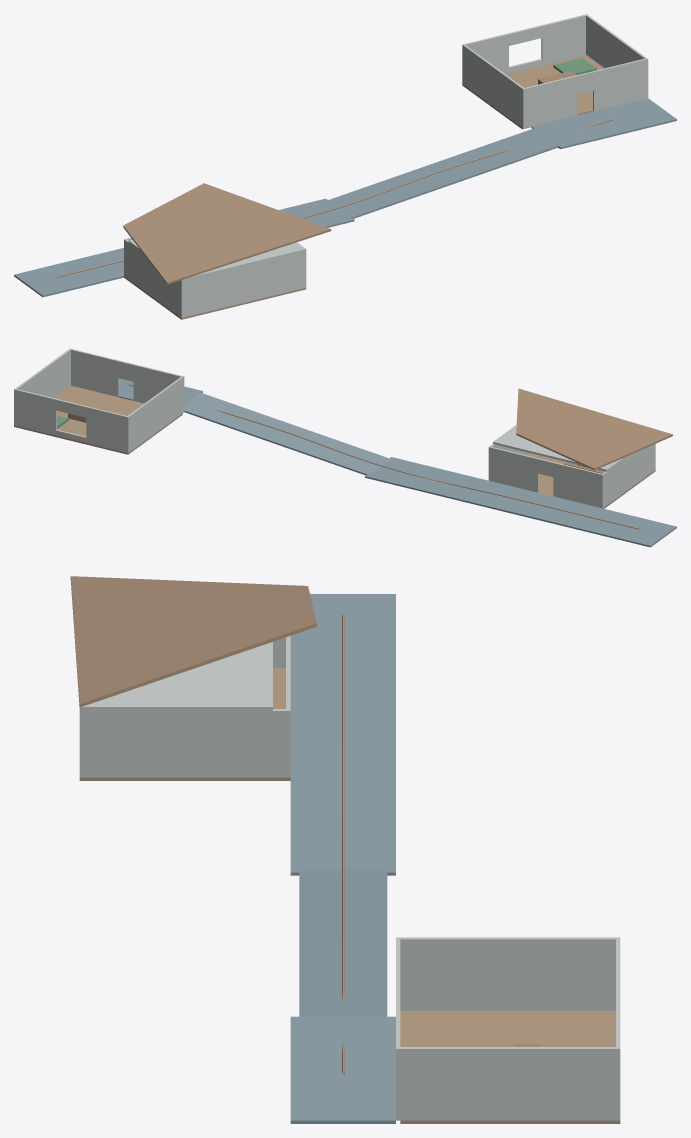
The model's file is M34_NATIVE_DIRECT_EDIT.glb.
3 views of the same model, one above another, from view 1: azimuth 30°, elevation 25°; view 2: azimuth 150°, elevation 25°; view 3: azimuth 270°, elevation 25° (orthographic). The views are drawn at different scales.
Parts seen in each view (by area): view 1: M34_HAND_EDITABLE_SKYLINE_CANOPY, M34_PUBLIC_REAL_RISE, M34_MAKER_BACK, M34_PUBLIC_LOWER_STREET, M34_PUBLIC_UPPER_LANDING, M34_RESEARCH_SIDE_W, M34_RESEARCH_FRONT_W, M34_RESEARCH_FRONT_E, M34_MAKER_LEFT, M34_RESEARCH_BACK_E, M34_RESEARCH_SIDE_E, M34_RESEARCH_ACTUAL_FLOOR (+4 smaller); view 2: M34_PUBLIC_LOWER_STREET, M34_HAND_EDITABLE_SKYLINE_CANOPY, M34_PUBLIC_REAL_RISE, M34_RESEARCH_SIDE_W, M34_RESEARCH_ACTUAL_FLOOR, M34_RESEARCH_FRONT_E, M34_MAKER_LEFT, M34_MAKER_FRONT_W, M34_MAKER_FRONT_E, M34_RESEARCH_BACK_W, M34_RESEARCH_BACK_E, M34_RESEARCH_SIDE_E (+6 smaller); view 3: M34_PUBLIC_LOWER_STREET, M34_HAND_EDITABLE_SKYLINE_CANOPY, M34_RESEARCH_SIDE_E, M34_RESEARCH_SIDE_W, M34_MAKER_RIGHT, M34_PUBLIC_REAL_RISE, M34_PUBLIC_UPPER_LANDING, M34_RESEARCH_ACTUAL_FLOOR, M34_MAKER_UPPER_ROOF, M34_MAKER_FLOOR, M34_NATIVE_EDITABLE_CIVIC_SPINE.
Part boxes in pixels (x1,y1,x2,y2): M34_HAND_EDITABLE_SKYLINE_CANOPY: (123, 183, 331, 284); M34_PUBLIC_REAL_RISE: (326, 128, 557, 218); M34_MAKER_BACK: (180, 251, 306, 317); M34_PUBLIC_LOWER_STREET: (14, 198, 354, 297); M34_PUBLIC_UPPER_LANDING: (531, 98, 676, 149); M34_RESEARCH_SIDE_W: (462, 44, 525, 128); M34_RESEARCH_FRONT_W: (522, 75, 577, 128); M34_RESEARCH_FRONT_E: (593, 58, 648, 111); M34_MAKER_LEFT: (124, 239, 183, 317); M34_RESEARCH_BACK_E: (541, 14, 585, 65); M34_RESEARCH_SIDE_E: (585, 14, 648, 98); M34_RESEARCH_ACTUAL_FLOOR: (462, 55, 604, 129); M34_PUBLIC_LOWER_STREET: (365, 457, 676, 547); M34_HAND_EDITABLE_SKYLINE_CANOPY: (516, 388, 672, 470); M34_PUBLIC_REAL_RISE: (184, 393, 390, 475); M34_RESEARCH_SIDE_W: (126, 376, 184, 452); M34_RESEARCH_ACTUAL_FLOOR: (14, 385, 182, 454); M34_RESEARCH_FRONT_E: (70, 348, 119, 396); M34_MAKER_LEFT: (601, 444, 655, 508); M34_MAKER_FRONT_W: (553, 462, 603, 507); M34_MAKER_FRONT_E: (490, 447, 538, 492); M34_RESEARCH_BACK_W: (86, 406, 128, 452); M34_RESEARCH_BACK_E: (14, 389, 56, 435); M34_RESEARCH_SIDE_E: (14, 349, 70, 425); M34_PUBLIC_LOWER_STREET: (290, 594, 395, 875); M34_HAND_EDITABLE_SKYLINE_CANOPY: (70, 576, 316, 707); M34_RESEARCH_SIDE_E: (396, 1047, 620, 1120); M34_RESEARCH_SIDE_W: (396, 937, 620, 1010); M34_MAKER_RIGHT: (79, 709, 290, 777); M34_PUBLIC_REAL_RISE: (299, 870, 387, 1016); M34_PUBLIC_UPPER_LANDING: (290, 1016, 395, 1123); M34_RESEARCH_ACTUAL_FLOOR: (400, 1011, 620, 1123); M34_MAKER_UPPER_ROOF: (79, 642, 272, 710); M34_MAKER_FLOOR: (79, 668, 290, 780); M34_NATIVE_EDITABLE_CIVIC_SPINE: (342, 614, 344, 1074).
Bounding box in the file's own units: 152 × 15.6 × 62.5.
